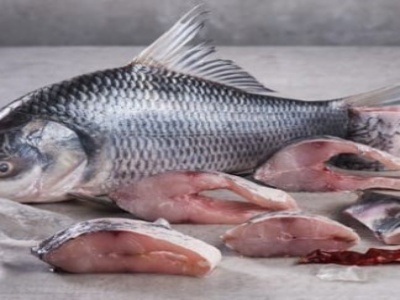rohu: (1, 5, 400, 201)
